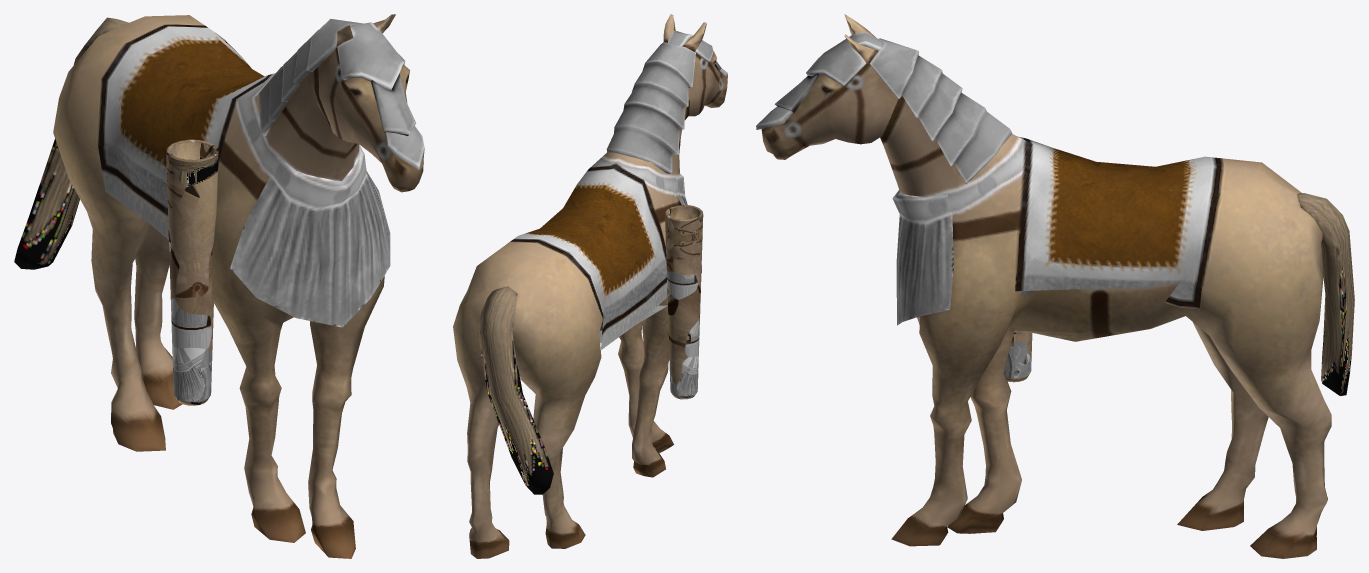
Rendered from body-heavyarchers.glb.
3 renders of one model, left to right at view 1: azimuth 30°, elevation 25°; view 2: azimuth 150°, elevation 25°; view 3: azimuth 270°, elevation 25°, orthographic. The views are drawn at different scales.
Bounding box in the file's own units: 0.9071 × 2.49 × 2.64.
Materials: 1 (1 with a texture image).
